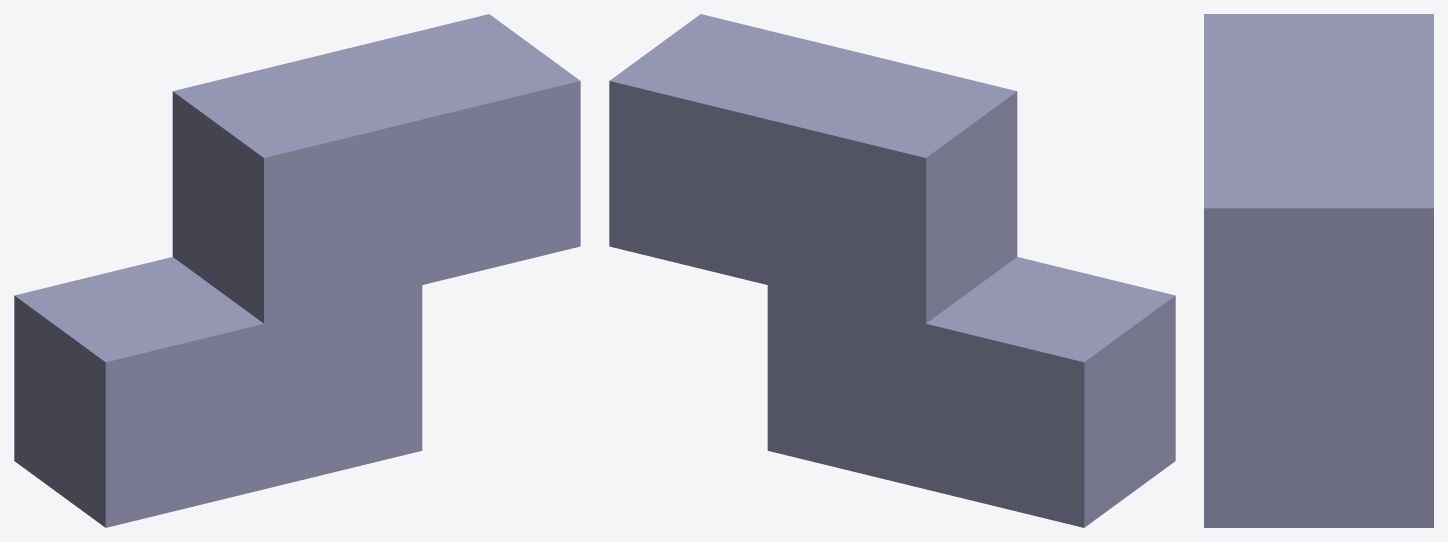
3 views of the same model, side by side, from view 1: azimuth 30°, elevation 25°; view 2: azimuth 150°, elevation 25°; view 3: azimuth 270°, elevation 25° (orthographic). The views are drawn at different scales.
Visible parts, largest first — view 1: cube_s_up; view 2: cube_s_up; view 3: cube_s_up.
Part boxes in pixels (x1,y1,x2,y2): cube_s_up: (14,14,580,527); cube_s_up: (609,14,1175,527); cube_s_up: (1204,14,1433,527).
Size of the model in its own units: 300 by 200 by 100.
